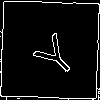Y: (25, 25, 82, 82)
